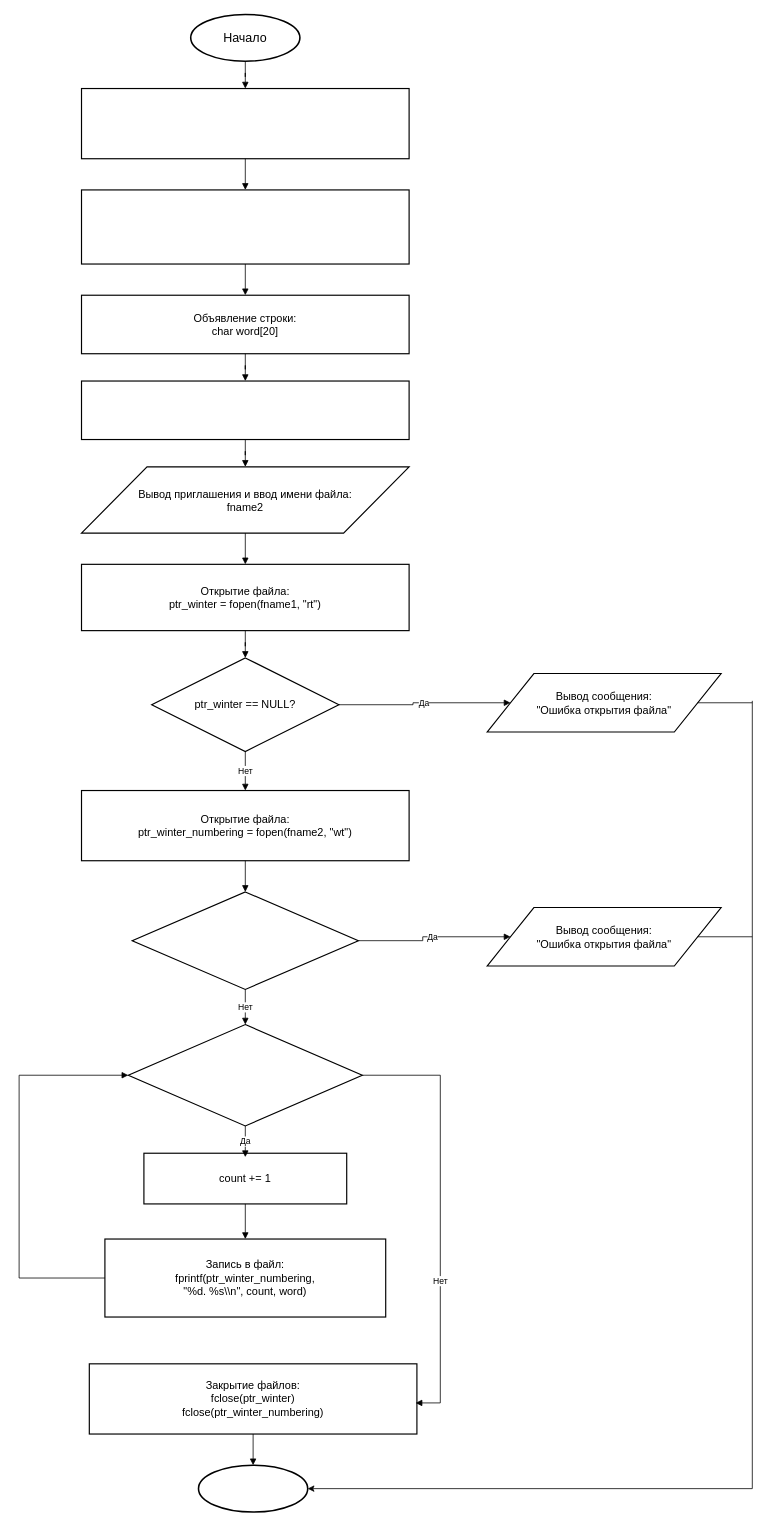
The diagram is 772 pixels wide and 1526 high, and some of its shapes have lost their labels. The shapes that lost their labels are listed below. From the top down, each one's box as (x1, y1, x2, y2) in pixels, then its label:
(81, 88, 409, 159): Объявление указателей на файлы: FILE* ptr_winter FILE* ptr_winter_numbering
(81, 189, 409, 264): Инициализация и объявление строк: char fname1[] = "winter.txt" char fname2[40]
(81, 380, 409, 440): Инициализация счетчика: count = 0
(131, 891, 359, 990): ptr_winter_numbering == NULL?
(127, 1024, 363, 1126): fscanf(ptr_winter, "%s", word) != EOF?
(197, 1464, 308, 1512): Конец
